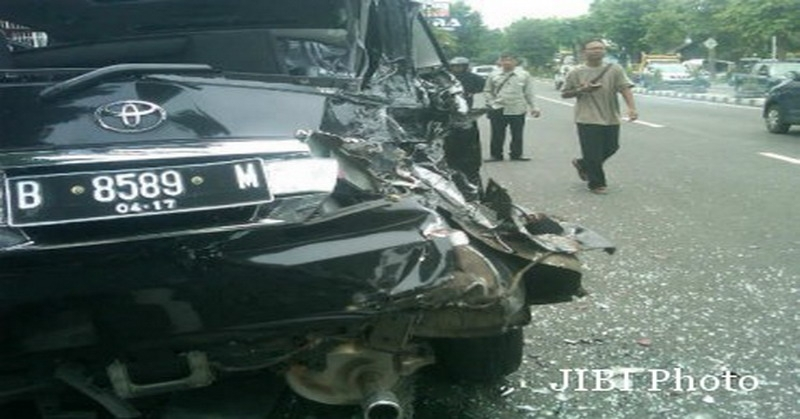plate: (4, 154, 270, 224)
